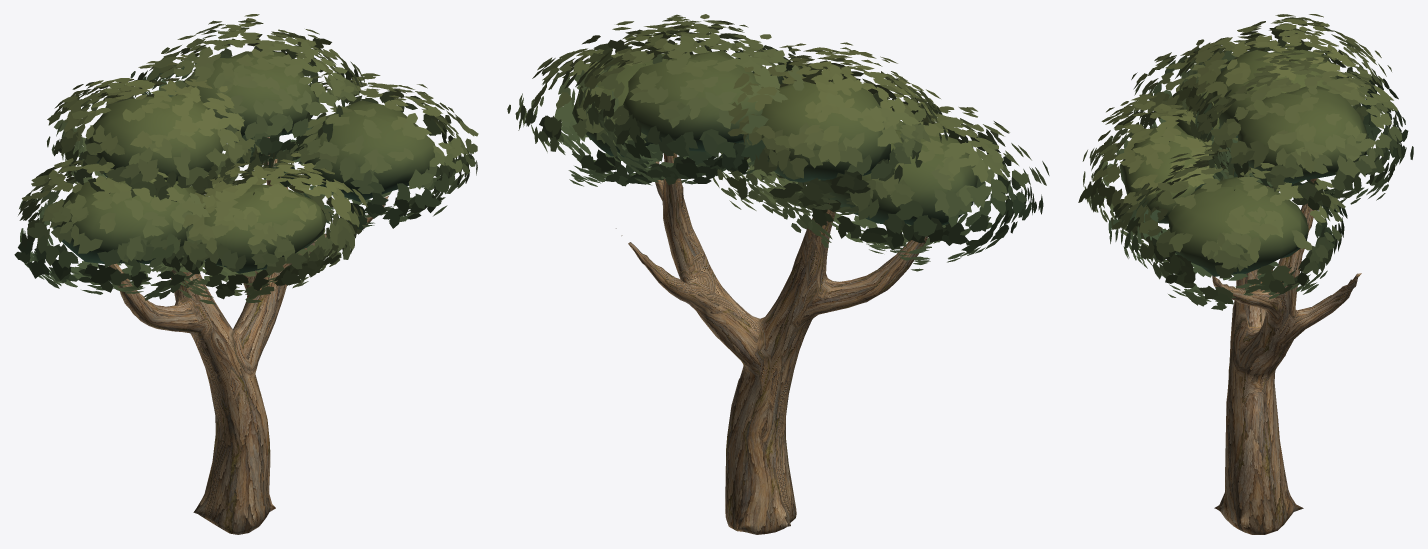
Rendered from valley-grove-oak.glb.
The picture shows the model from 3 angles, left to right: view 1: azimuth 30°, elevation 25°; view 2: azimuth 150°, elevation 25°; view 3: azimuth 270°, elevation 25°; orthographic projection. The views are drawn at different scales.
Visible parts, largest first — view 1: grove-crown-foliage, grove-living-wood; view 2: grove-crown-foliage, grove-living-wood; view 3: grove-crown-foliage, grove-living-wood.
Boxes of the visible parts, box(x1,y1,x2,y2) form: grove-crown-foliage: box(14, 14, 478, 304); grove-living-wood: box(108, 137, 388, 534); grove-crown-foliage: box(507, 14, 1049, 271); grove-living-wood: box(616, 153, 927, 534); grove-crown-foliage: box(1078, 14, 1413, 310); grove-living-wood: box(1212, 178, 1361, 534).
Bounding box in the file's own units: 7.62 × 7.57 × 4.9.
Materials: 2 (1 with a texture image).
